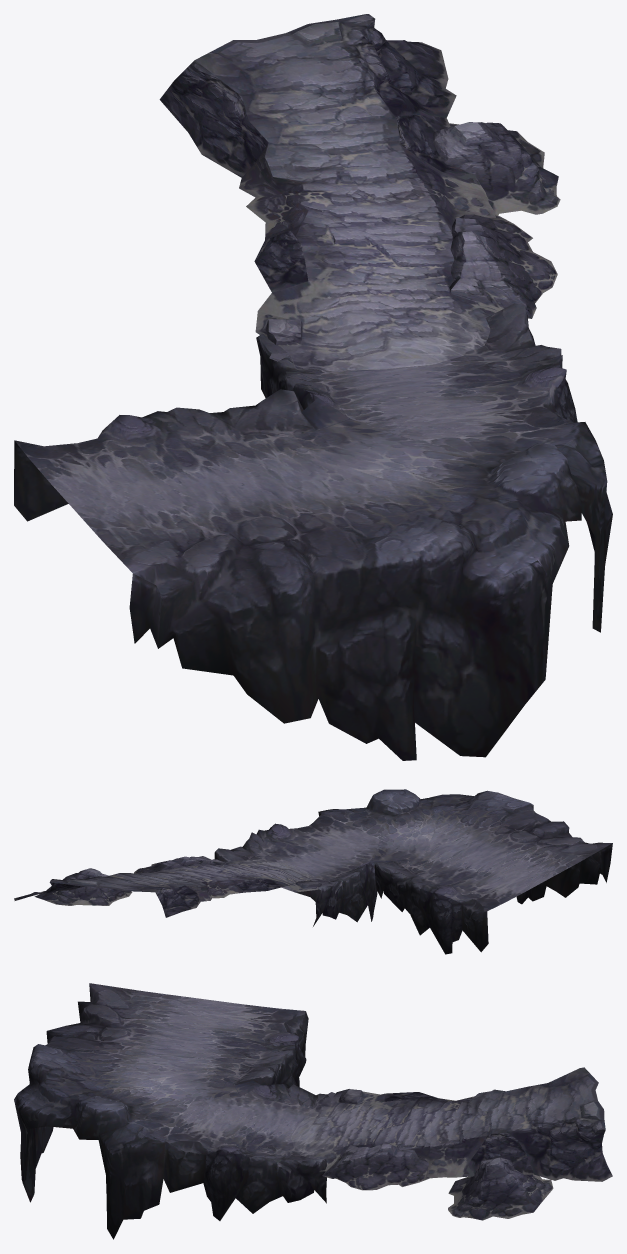
Rendered from Map01_Stone_01D.FBX.
3 renders of one model, top to bottom at view 1: azimuth 30°, elevation 25°; view 2: azimuth 150°, elevation 25°; view 3: azimuth 270°, elevation 25°, orthographic. The views are drawn at different scales.
Parts seen in each view (by area): view 1: DrawCall_987, DrawCall_0303; view 2: DrawCall_987, DrawCall_0303; view 3: DrawCall_987, DrawCall_0303.
Part boxes in pixels (left/top/right/bottom): DrawCall_987: left=14, top=303, right=612, bottom=760; DrawCall_0303: left=159, top=14, right=560, bottom=371; DrawCall_987: left=214, top=789, right=612, bottom=954; DrawCall_0303: left=14, top=856, right=334, bottom=917; DrawCall_987: left=14, top=983, right=348, bottom=1239; DrawCall_0303: left=290, top=1067, right=612, bottom=1220.
Size of the model in its own units: 1129 by 442 by 1288.
